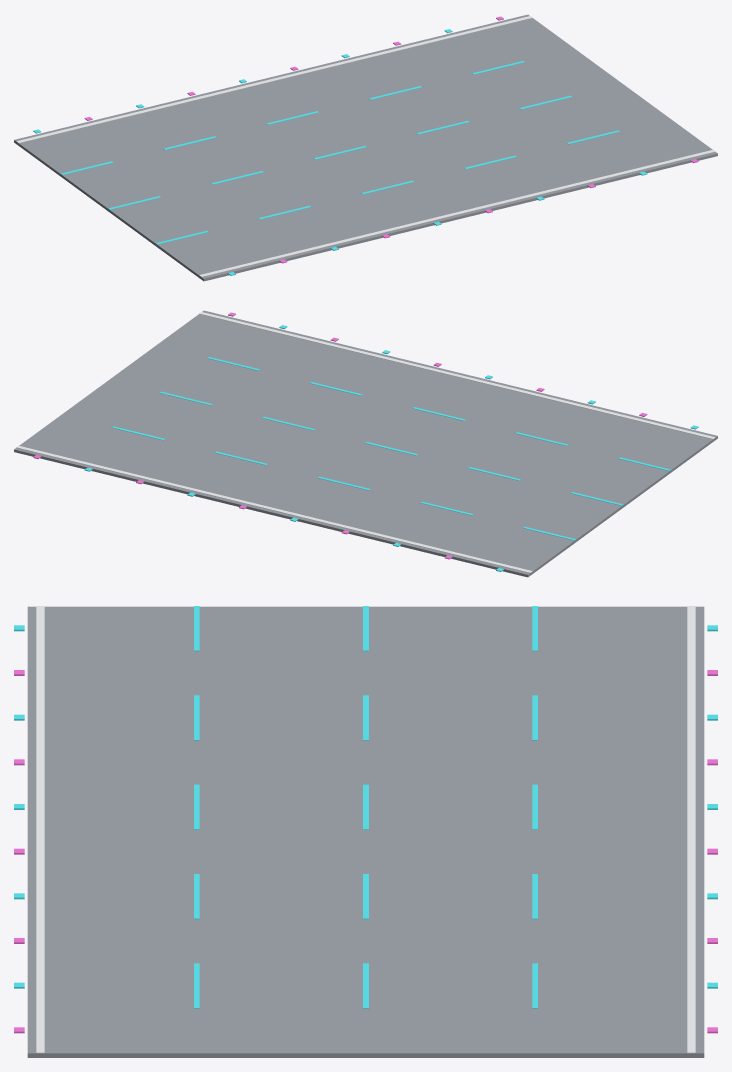
The model's file is SM_Road_Future_25m.fbx.
The picture shows the model from 3 angles, top to bottom: view 1: azimuth 30°, elevation 25°; view 2: azimuth 150°, elevation 25°; view 3: azimuth 270°, elevation 25°; orthographic projection. The views are drawn at different scales.
Visible parts, largest first — view 1: SM_Road_Future_25m; view 2: SM_Road_Future_25m; view 3: SM_Road_Future_25m.
Boxes of the visible parts, bbox=[...] form: SM_Road_Future_25m: bbox=[14, 14, 717, 281]; SM_Road_Future_25m: bbox=[14, 310, 717, 577]; SM_Road_Future_25m: bbox=[14, 606, 717, 1057].
Bounding box in the file's own units: 2500 × 16 × 1665.
